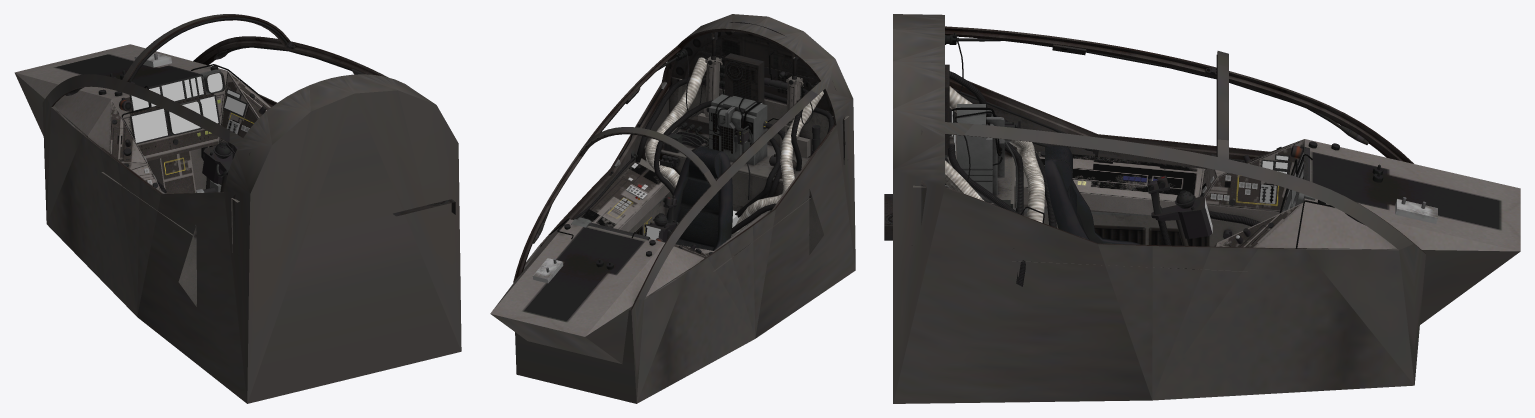
File: z95_cockpit.obj
3 views of the same model, side by side, from view 1: azimuth 30°, elevation 25°; view 2: azimuth 150°, elevation 25°; view 3: azimuth 270°, elevation 25° (orthographic). The views are drawn at different scales.
Visible parts, largest first — view 1: z95_cockpit; view 2: z95_cockpit; view 3: z95_cockpit.
Boxes of the visible parts, x1,y1,x2,y2 form: z95_cockpit: (14, 14, 461, 403); z95_cockpit: (490, 14, 855, 403); z95_cockpit: (884, 14, 1520, 403).
Size of the model in its own units: 1.12 by 1.31 by 2.28.
